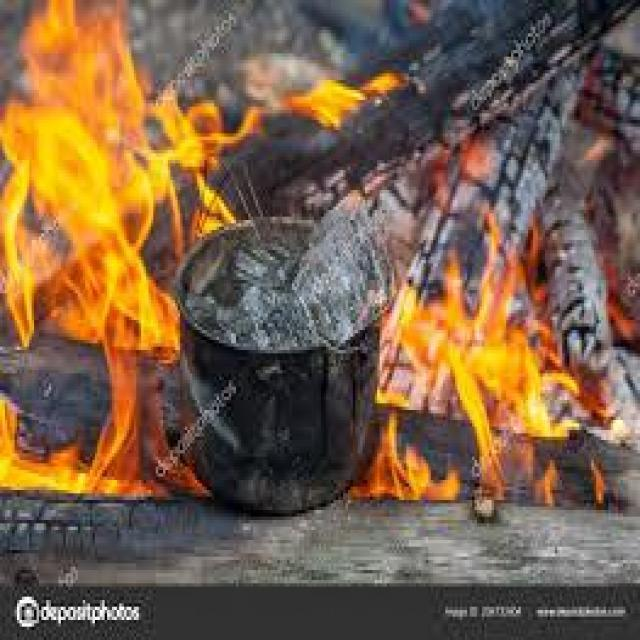Fire: (4, 4, 199, 513), (379, 246, 640, 516), (238, 32, 426, 128)
